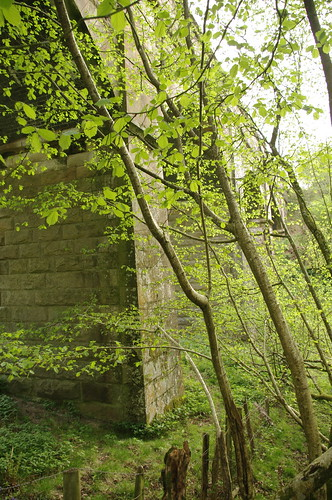vegetation: (3, 3, 332, 500)
